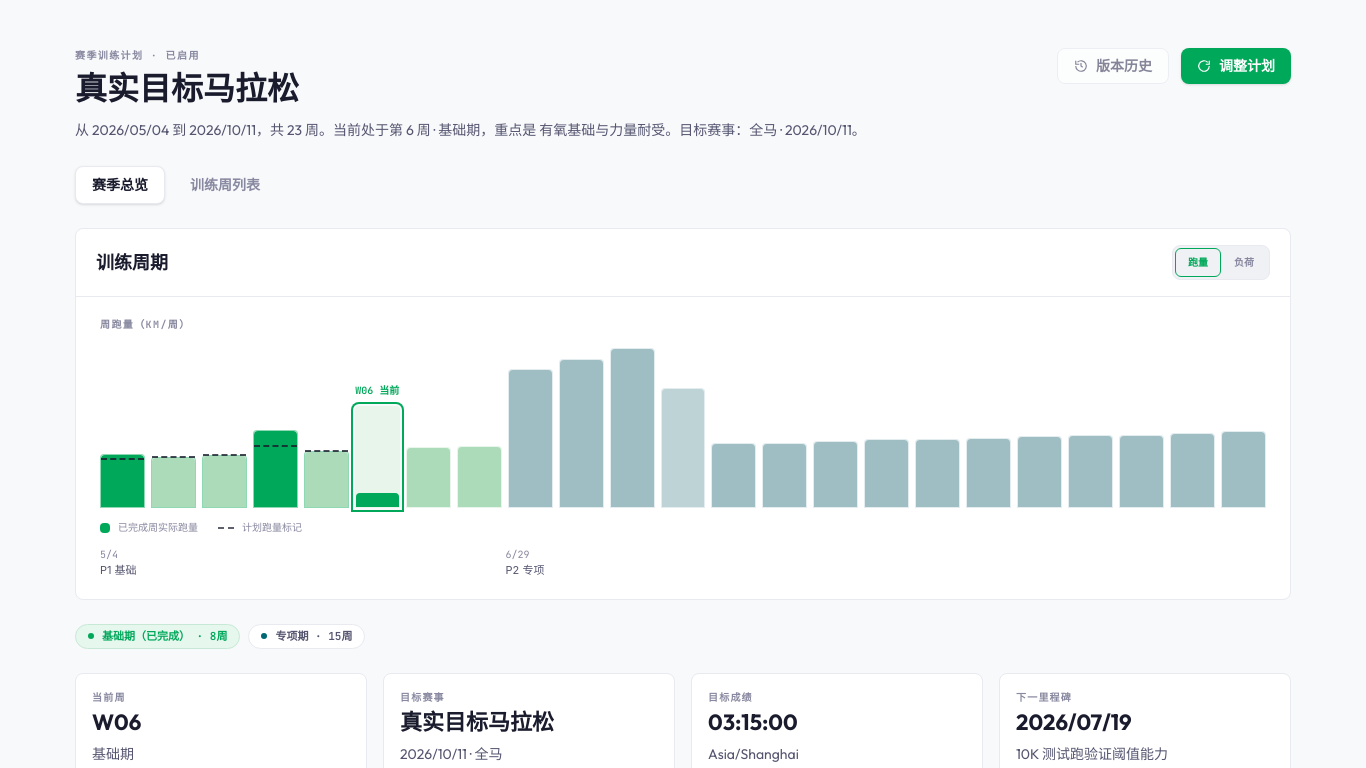
Scenario: TrainingPlanPage › renders the current master plan view from live API data
Expected: the heading "真实目标马拉松" is shown, [75, 68, 299, 108]
Expected: the text "周跑量（KM/周）" is shown, [100, 318, 191, 331]
Click the button "负荷".
click(1244, 263)  # box [1221, 248, 1267, 277]
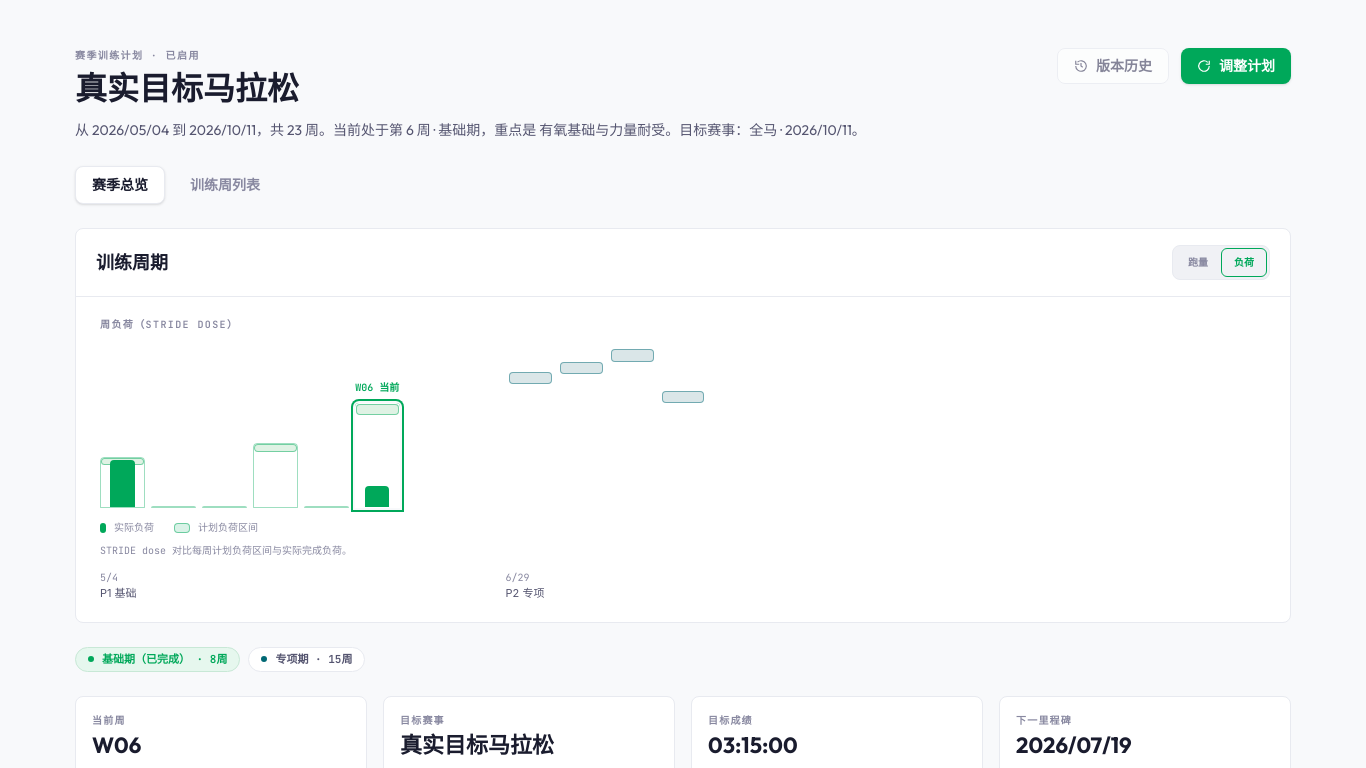
Expected: the text "周负荷（STRIDE DOSE）" is shown, [100, 318, 238, 331]
Expected: the text "STRIDE dose 对比每周计划负荷区间与实际完成负荷。" is shown, [100, 544, 352, 557]
Expected: the text "计划负荷区间" is shown, [174, 520, 258, 535]
